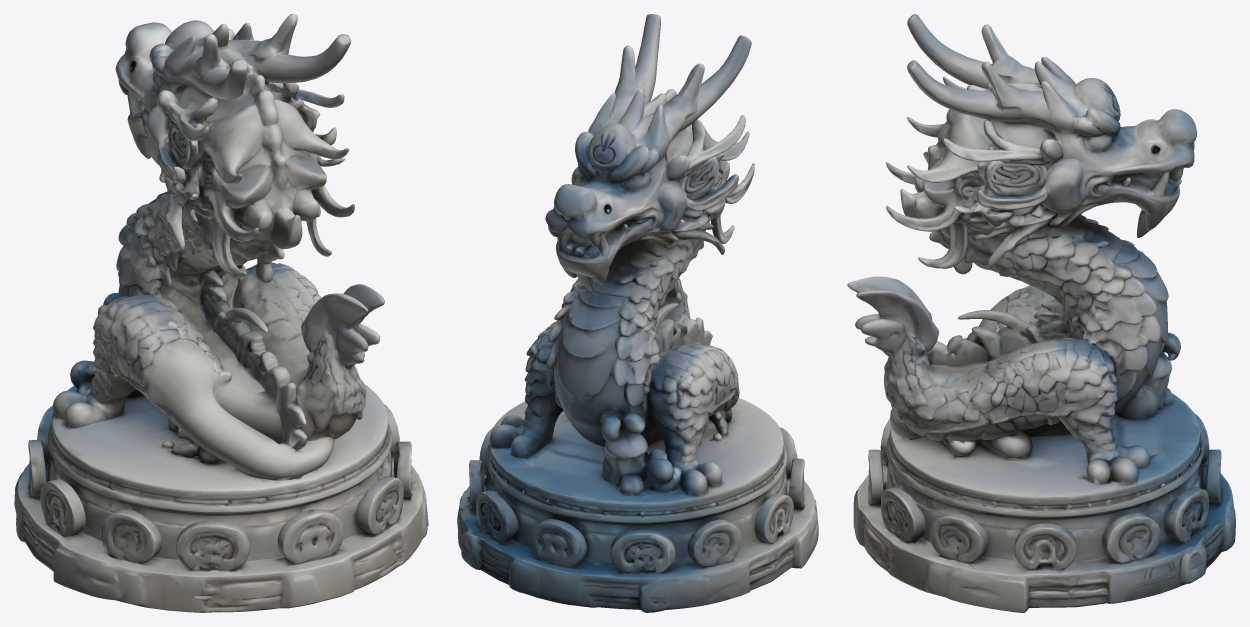
The model's file is city-statue-dragon.glb.
3 renders of one model, left to right at view 1: azimuth 30°, elevation 25°; view 2: azimuth 150°, elevation 25°; view 3: azimuth 270°, elevation 25°, orthographic. The views are drawn at different scales.
Visible parts, largest first — view 1: tripo_node_d332d04d-fcc6-46f2-a5c9-32a0168cd81b; view 2: tripo_node_d332d04d-fcc6-46f2-a5c9-32a0168cd81b; view 3: tripo_node_d332d04d-fcc6-46f2-a5c9-32a0168cd81b.
Boxes of the visible parts, box(x1,y1,x2,y2) form: tripo_node_d332d04d-fcc6-46f2-a5c9-32a0168cd81b: box(14, 14, 428, 612); tripo_node_d332d04d-fcc6-46f2-a5c9-32a0168cd81b: box(457, 14, 818, 612); tripo_node_d332d04d-fcc6-46f2-a5c9-32a0168cd81b: box(847, 14, 1235, 612).
Size of the model in its own units: 3.48 by 5 by 3.56.
1 material, 1 textured.
